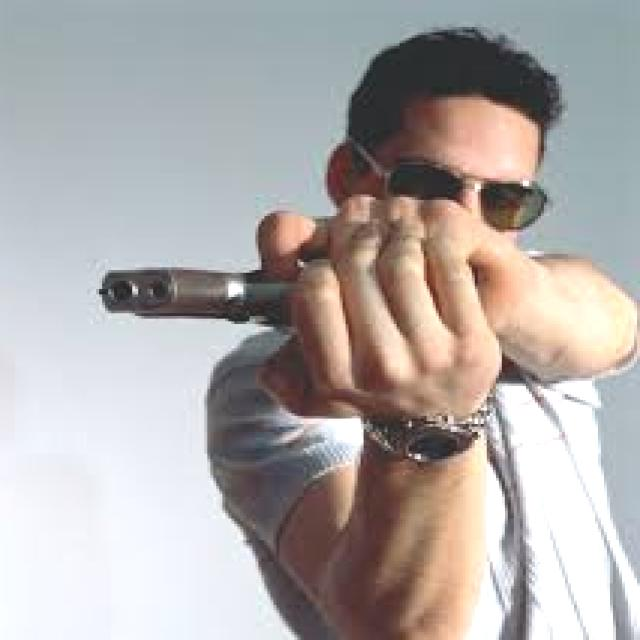pistol: (93, 246, 394, 335)
